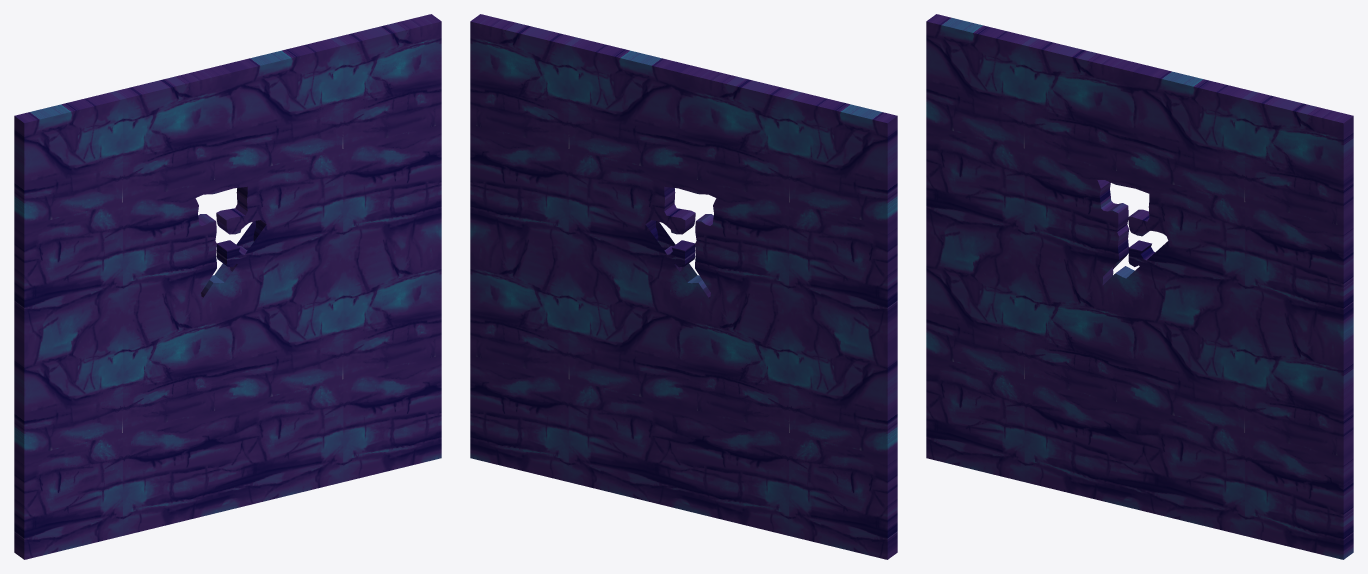
File: tunel6.obj
3 views of the same model, side by side, from view 1: azimuth 30°, elevation 25°; view 2: azimuth 150°, elevation 25°; view 3: azimuth 330°, elevation 25° (orthographic).
Visible parts, largest first — view 1: Plane.029_Plane.031; view 2: Plane.029_Plane.031; view 3: Plane.029_Plane.031.
Part boxes in pixels (left/top/right/bottom): Plane.029_Plane.031: left=14, top=14, right=441, bottom=559; Plane.029_Plane.031: left=470, top=14, right=897, bottom=559; Plane.029_Plane.031: left=926, top=14, right=1353, bottom=559.
Bounding box in the file's own units: 2037 × 2037 × 86.35.
Materials: 1 (1 with a texture image).
